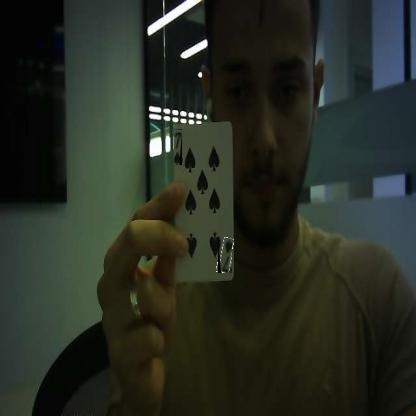7S: (218, 238, 232, 273), (174, 129, 182, 165)
